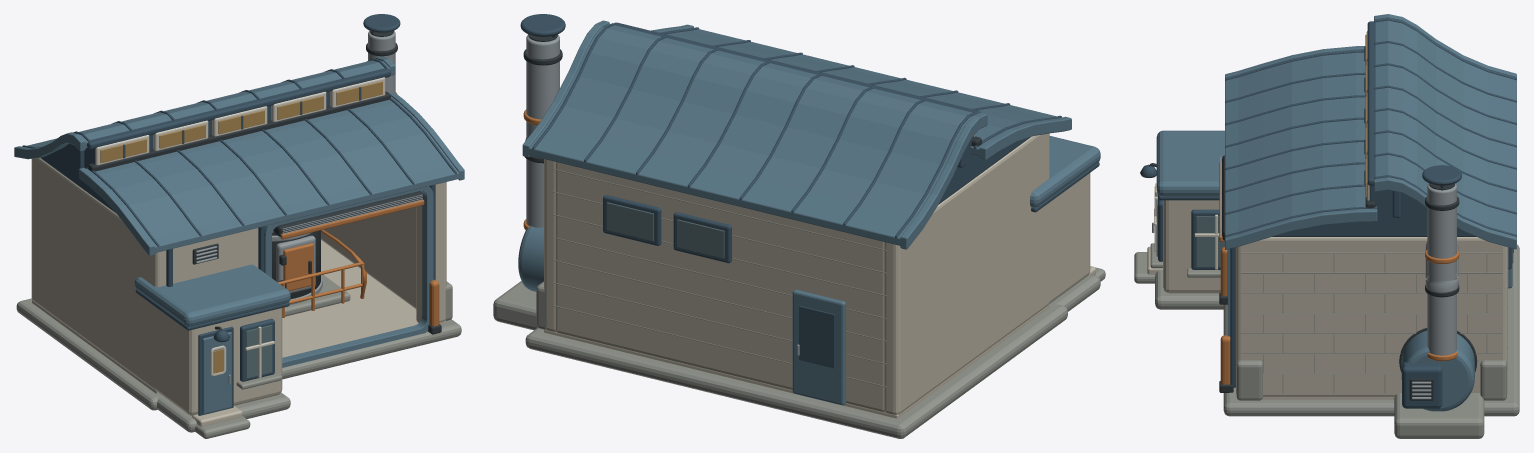
The model's file is rounded_foundry_workshop.glb.
The picture shows the model from 3 angles, left to right: view 1: azimuth 30°, elevation 25°; view 2: azimuth 150°, elevation 25°; view 3: azimuth 270°, elevation 25°; orthographic projection. The views are drawn at different scales.
Parts seen in each view (by area): view 1: Roof.FrontCurvedSheet, Wall.Left, Workshop.InteriorFloor, Office.Walls, Wall.Right, Office.RoundedRoof, Foundation.Main, Bay.SoftSteelSurround, Roof.RearCurvedSheet, Wall.FrontLeft, Roof.ClerestoryTopRail, Roof.ClerestoryLowerRail (+32 smaller); view 2: Roof.RearCurvedSheet, Wall.Rear, Wall.Left, Foundation.Main, Roof.FrontCurvedSheet, Office.Walls, Rear.ServiceDoor, Office.RoundedRoof, Exhaust.UpperStack, Rear.ServiceDoorInset, Roof.RearFascia.-1, Wall.Right (+14 smaller); view 3: Wall.Right, Roof.FrontCurvedSheet, Roof.RearCurvedSheet, Foundation.Main, Office.RoundedRoof, Office.Walls, Roof.SideGable.+1, Exhaust.Foundation, Exhaust.BlowerHousing, Exhaust.UpperStack, Roof.FrontFascia.+1, Exhaust.StackLower (+35 smaller).
Boxes of the visible parts, x1,y1,x2,y2 form: Roof.FrontCurvedSheet: (86,96,459,252); Wall.Left: (31,158,165,389); Workshop.InteriorFloor: (32,240,446,393); Office.Walls: (154,306,282,415); Wall.Right: (321,182,446,319); Office.RoundedRoof: (134,264,290,326); Foundation.Main: (16,298,461,410); Bay.SoftSteelSurround: (264,186,433,367); Roof.RearCurvedSheet: (27,59,391,149); Wall.FrontLeft: (155,228,258,390); Roof.ClerestoryTopRail: (87,68,390,149); Roof.ClerestoryLowerRail: (88,91,390,171); Roof.RearCurvedSheet: (527,23,977,245); Wall.Rear: (556,162,884,412); Wall.Left: (884,133,1049,414); Foundation.Main: (525,304,1067,438); Roof.FrontCurvedSheet: (666,29,1055,156); Office.Walls: (1049,173,1090,304); Rear.ServiceDoor: (792,289,845,405); Office.RoundedRoof: (1030,136,1100,207); Exhaust.UpperStack: (526,34,559,139); Rear.ServiceDoorInset: (799,306,835,368); Roof.RearFascia.-1: (900,112,987,249); Wall.Right: (544,159,555,331); Wall.Right: (1236,237,1507,396); Roof.FrontCurvedSheet: (1225,50,1376,235); Roof.RearCurvedSheet: (1374,18,1516,234); Foundation.Main: (1223,244,1519,416); Office.RoundedRoof: (1156,130,1224,196); Office.Walls: (1163,200,1220,293); Roof.SideGable.+1: (1272,186,1476,236); Exhaust.Foundation: (1394,393,1484,438); Exhaust.BlowerHousing: (1401,330,1474,411); Exhaust.UpperStack: (1427,183,1456,281); Roof.FrontFascia.+1: (1225,208,1377,249); Exhaust.StackLower: (1427,293,1456,355).
Bounding box in the file's own units: 8.01 × 5.09 × 6.96.
